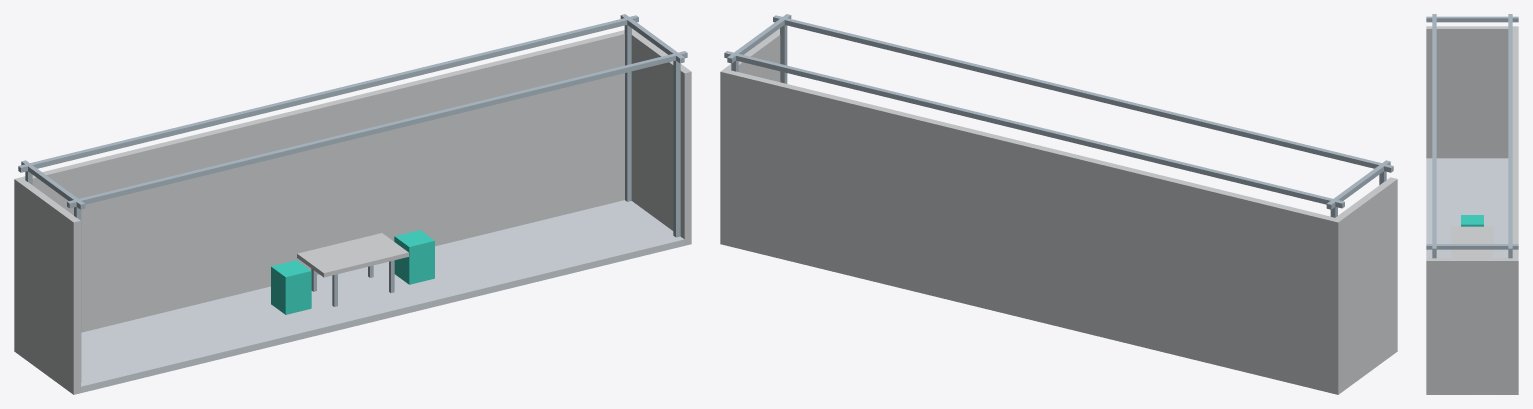
3 views of the same model, side by side, from view 1: azimuth 30°, elevation 25°; view 2: azimuth 150°, elevation 25°; view 3: azimuth 270°, elevation 25° (orthographic). The views are drawn at different scales.
Visible parts, largest first — view 1: Exhibition Booth Concept; view 2: Exhibition Booth Concept; view 3: Exhibition Booth Concept.
Part boxes in pixels (x1,y1,x2,y2): Exhibition Booth Concept: (14, 14, 691, 394); Exhibition Booth Concept: (720, 14, 1397, 394); Exhibition Booth Concept: (1426, 14, 1518, 394).
Size of the model in its own units: 12 by 3.49 by 2.
